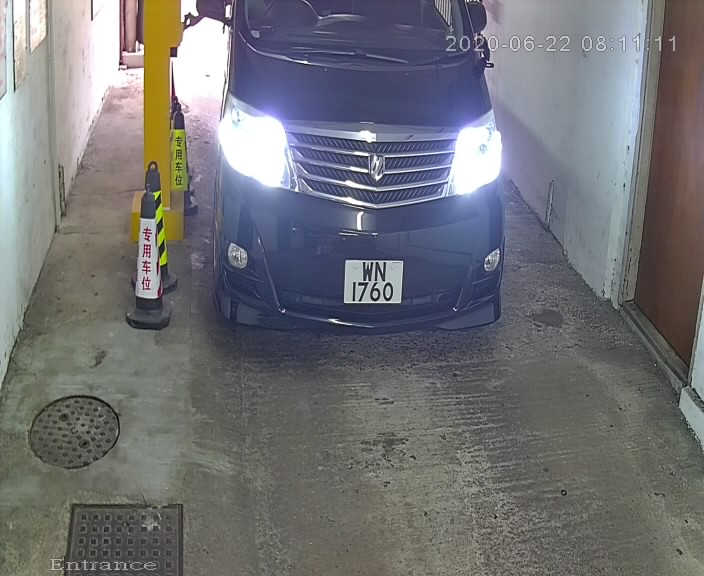privatecar: (173, 1, 527, 359)
